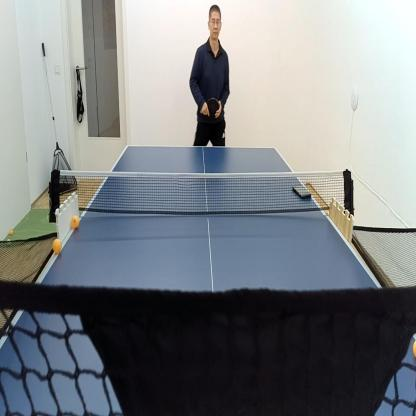Ball: (53, 239, 61, 253), (72, 214, 78, 227), (6, 238, 11, 245), (8, 229, 14, 234)
